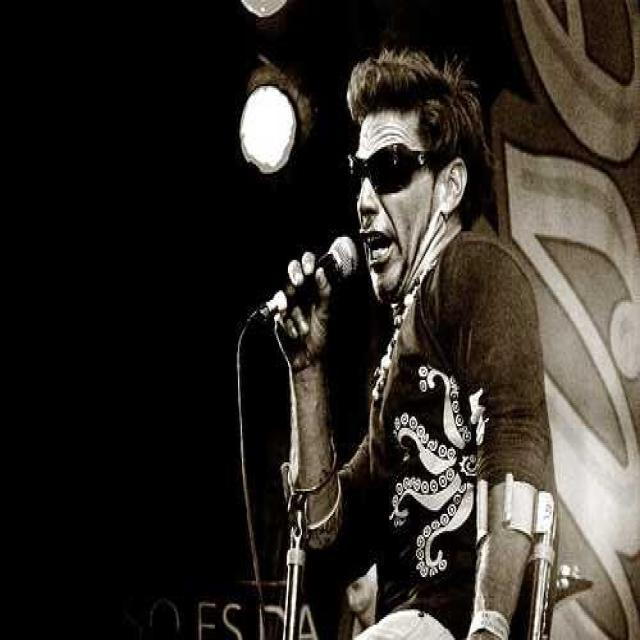microphone: (260, 235, 360, 327)
